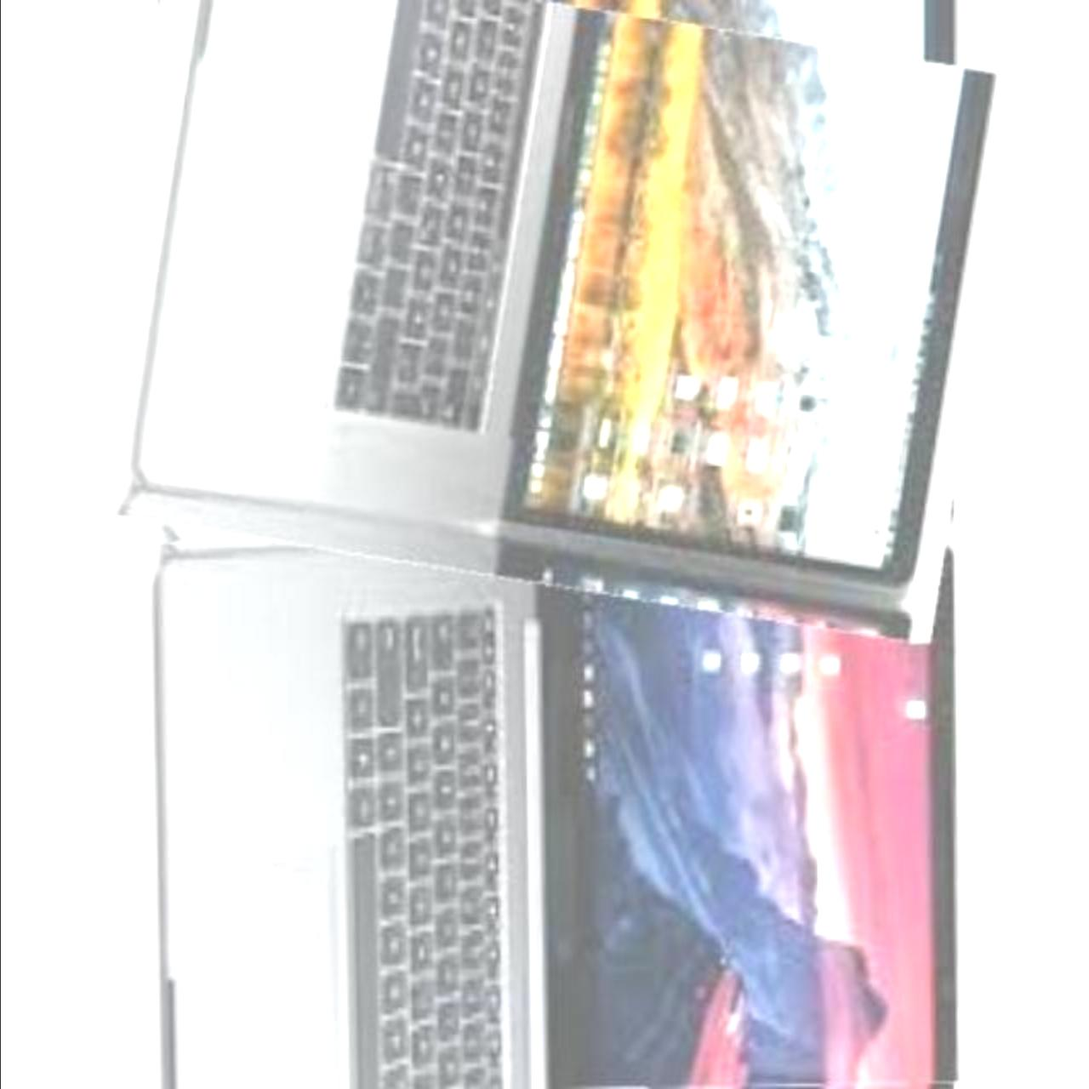laptop: (100, 0, 996, 609), (123, 532, 1000, 1088)
